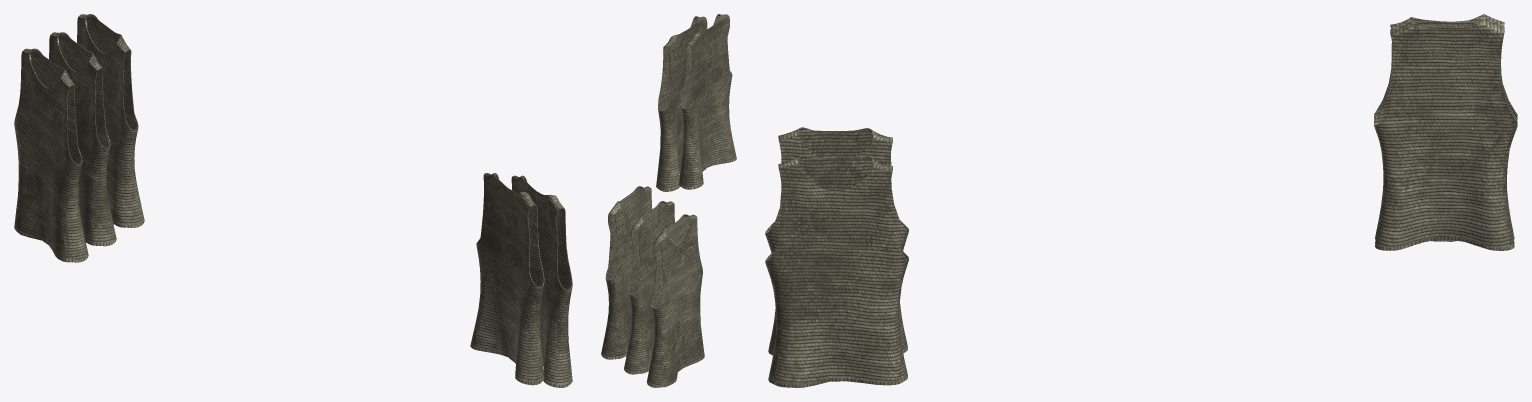
Rendered from yifu0904.fbx.
3 renders of one model, left to right at view 1: azimuth 30°, elevation 25°; view 2: azimuth 150°, elevation 25°; view 3: azimuth 270°, elevation 25°, orthographic. The views are drawn at different scales.
Parts seen in each view (by area): view 1: yifu0904; view 2: yifu0904; view 3: yifu0904.
Part boxes in pixels (x1=…): yifu0904: x1=14, y1=14, x2=572, y2=387; yifu0904: x1=601, y1=14, x2=736, y2=387; yifu0904: x1=765, y1=14, x2=1517, y2=387.
Bounding box in the file's own units: 114 × 83.21 × 228.
